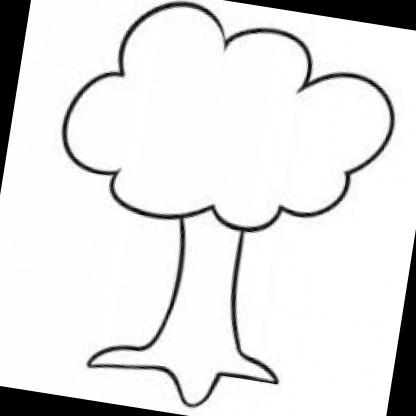crown_cloud: (42, 0, 410, 254)
root_only: (80, 325, 289, 416)
trunk_straight: (164, 240, 254, 320)
